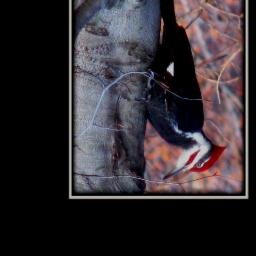Woodpecker: (134, 0, 227, 180)
